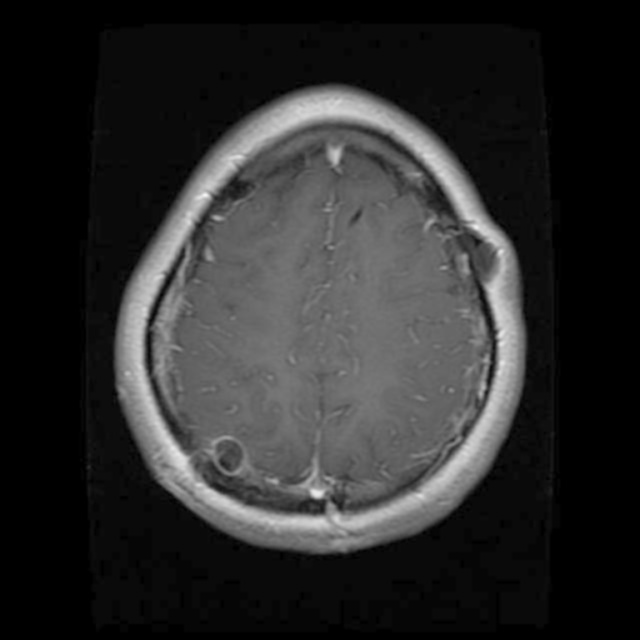pituitary tumor: (468, 228, 512, 292), (215, 439, 255, 480)
